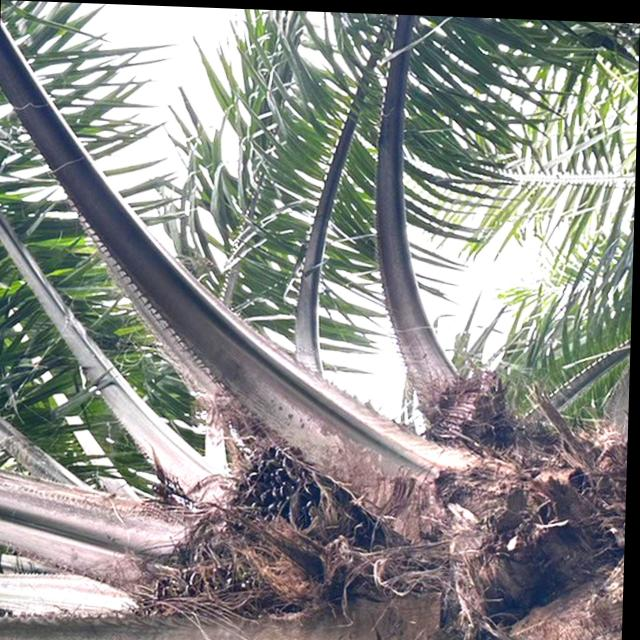unripe: (218, 435, 390, 588)
